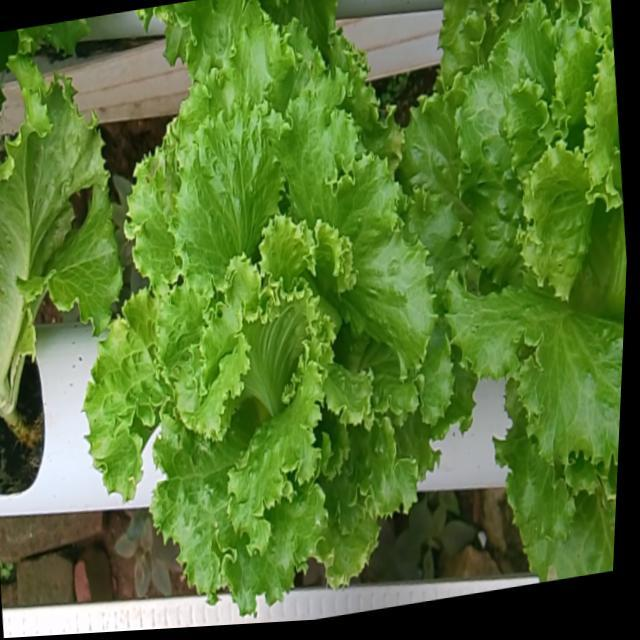Mature: (86, 28, 458, 624), (406, 8, 627, 489)
